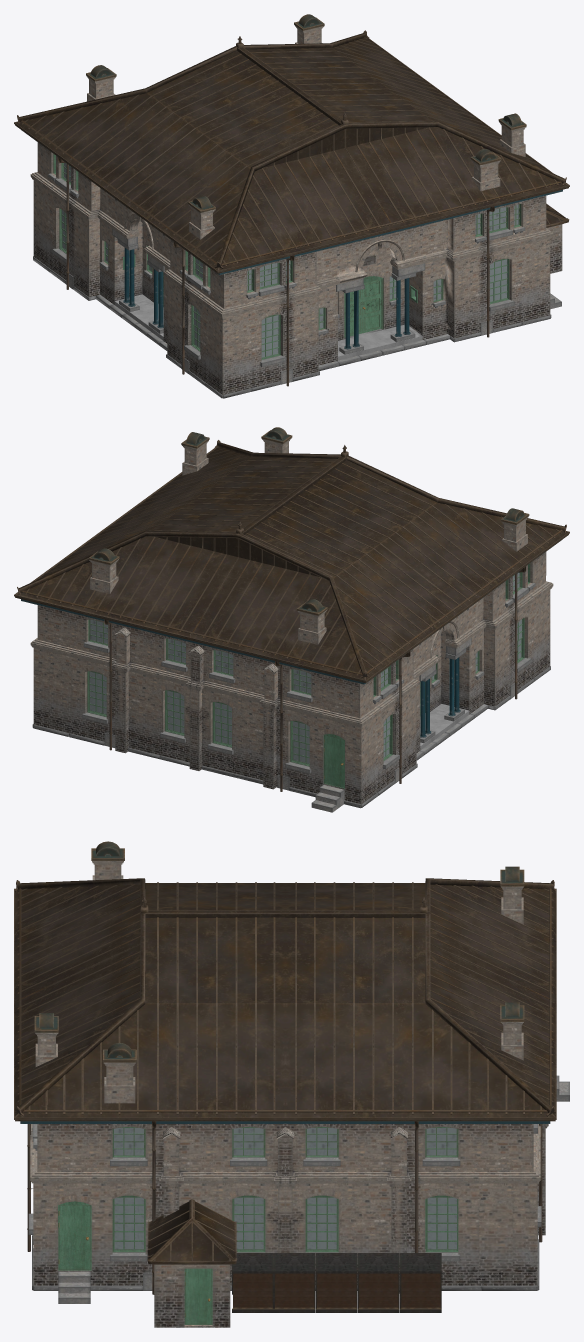
Rendered from owen.glb.
3 renders of one model, top to bottom at view 1: azimuth 30°, elevation 25°; view 2: azimuth 150°, elevation 25°; view 3: azimuth 270°, elevation 25°, orthographic. The views are drawn at different scales.
Visible parts, largest first — view 1: OwenStoneroof_OwenStoneroof_0, OwenWall_Side_OwenWall_0, OwenDoor_Bigwindow_OwenDoor_0, Front_Door_R_OwenDoor_0, Front_Door_L_OwenDoor_0; view 2: OwenStoneroof_OwenStoneroof_0, OwenWall_Side_OwenWall_0, OwenDoor_Bigwindow_OwenDoor_0; view 3: OwenStoneroof_OwenStoneroof_0, OwenWall_Side_OwenWall_0, OwenDoor_Bigwindow_OwenDoor_0.
Boxes of the visible parts, x1=… form: OwenStoneroof_OwenStoneroof_0: x1=14, y1=30, x2=569, y2=398; OwenWall_Side_OwenWall_0: x1=30, y1=14, x2=562, y2=397; OwenDoor_Bigwindow_OwenDoor_0: x1=53, y1=154, x2=521, y2=359; Front_Door_R_OwenDoor_0: x1=362, y1=279, x2=381, y2=333; Front_Door_L_OwenDoor_0: x1=344, y1=289, x2=362, y2=337; OwenStoneroof_OwenStoneroof_0: x1=14, y1=440, x2=569, y2=812; OwenWall_Side_OwenWall_0: x1=30, y1=427, x2=553, y2=804; OwenDoor_Bigwindow_OwenDoor_0: x1=87, y1=563, x2=530, y2=788; OwenStoneroof_OwenStoneroof_0: x1=14, y1=878, x2=569, y2=1303; OwenWall_Side_OwenWall_0: x1=30, y1=841, x2=548, y2=1327; OwenDoor_Bigwindow_OwenDoor_0: x1=58, y1=1127, x2=458, y2=1324.
Bounding box in the file's own units: 18.24 × 9.43 × 16.4.
Materials: 5 (5 with a texture image).
